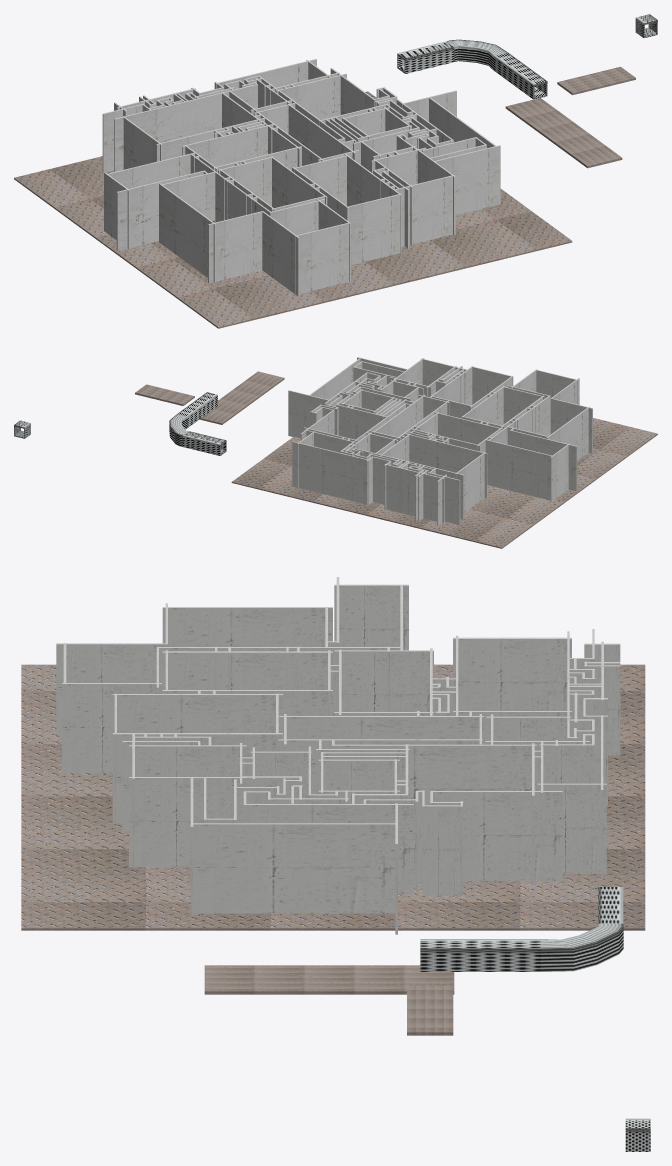
File: Map_CrewQuarters.glb
The picture shows the model from 3 angles, top to bottom: view 1: azimuth 30°, elevation 25°; view 2: azimuth 150°, elevation 25°; view 3: azimuth 270°, elevation 25°; orthographic projection. The views are drawn at different scales.
Parts seen in each view (by area): view 1: Floor-col, Wall.036-col, Wall.009-col, Wall.011-col, Wall.016-col, LowCeiling-col, Wall.001-col, Wall.107-col, Wall.021-col, Wall.013-col, Grate-col, Wall.018-col (+34 smaller); view 2: Floor-col, Wall.051-col, Wall.012-col, Wall.062-col, Wall.035-col, LowCeiling-col, Wall.013-col, Wall.033-col, Grate-col, Wall.026-col, Wall.010-col, Wall.092-col (+31 smaller); view 3: Floor-col, Wall.024-col, Wall.044-col, Wall.037-col, Wall.019-col, Grate-col, LowCeiling-col, Wall.011-col, Wall.003-col, Wall.039-col, Wall.005-col, Wall.031-col (+22 smaller).
Boxes of the visible parts, left/top/right/bottom form: Floor-col: left=14, top=91, right=572, bottom=328; Wall.036-col: left=114, top=84, right=257, bottom=171; Wall.009-col: left=208, top=211, right=262, bottom=283; Wall.011-col: left=159, top=183, right=215, bottom=282; Wall.016-col: left=294, top=223, right=348, bottom=294; LowCeiling-col: left=505, top=98, right=622, bottom=168; Wall.001-col: left=346, top=194, right=400, bottom=264; Wall.107-col: left=435, top=145, right=500, bottom=214; Wall.021-col: left=394, top=175, right=455, bottom=246; Wall.013-col: left=116, top=170, right=205, bottom=250; Grate-col: left=447, top=39, right=547, bottom=99; Wall.018-col: left=262, top=211, right=299, bottom=296; Floor-col: left=231, top=418, right=657, bottom=548; Wall.051-col: left=292, top=441, right=369, bottom=504; Wall.012-col: left=485, top=439, right=551, bottom=500; Wall.062-col: left=384, top=464, right=444, bottom=523; Wall.035-col: left=404, top=433, right=487, bottom=498; LowCeiling-col: left=200, top=371, right=284, bottom=424; Wall.013-col: left=509, top=430, right=577, bottom=491; Wall.033-col: left=434, top=412, right=502, bottom=444; Grate-col: left=169, top=392, right=217, bottom=446; Wall.026-col: left=288, top=390, right=330, bottom=438; Wall.010-col: left=488, top=396, right=549, bottom=444; Wall.092-col: left=336, top=404, right=388, bottom=439; Floor-col: left=21, top=664, right=645, bottom=930; Wall.024-col: left=190, top=823, right=395, bottom=913; Wall.044-col: left=430, top=791, right=562, bottom=881; Wall.037-col: left=453, top=637, right=571, bottom=710; Wall.019-col: left=129, top=777, right=246, bottom=867; Grate-col: left=420, top=923, right=623, bottom=971; LowCeiling-col: left=204, top=965, right=454, bottom=994; Wall.011-col: left=162, top=607, right=332, bottom=646; Wall.003-col: left=112, top=694, right=282, bottom=732; Wall.039-col: left=332, top=744, right=536, bottom=805; Wall.005-col: left=162, top=651, right=332, bottom=689; Wall.031-col: left=334, top=650, right=433, bottom=711.
Size of the model in its own units: 180 by 27.25 by 101.
4 materials, 4 textured.
